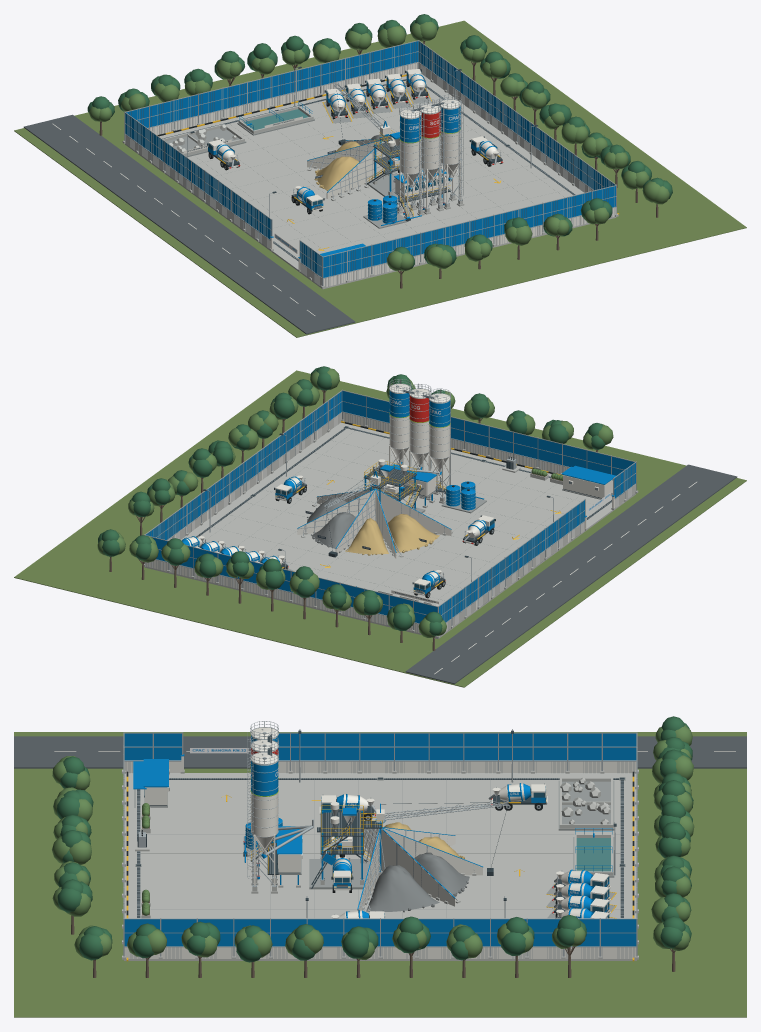
File: Bangna_32_Plant.glb
3 renders of one model, top to bottom at view 1: azimuth 30°, elevation 25°; view 2: azimuth 150°, elevation 25°; view 3: azimuth 270°, elevation 25°, orthographic. The views are drawn at different scales.
Parts seen in each view (by area): view 1: 60x70m concrete hardstanding / Ground vegetation, 60x70m concrete hardstanding / Concrete, 60x70m concrete hardstanding / Asphalt, B1 — 180t cement silo / Warm white powder coating, B2 — 180t cement silo / Warm white powder coating, B3 — 180t cement silo / Warm white powder coating, B3 — 180t cement silo / Galvanized steel, B2 — 180t cement silo / Galvanized steel, Edge radial divider 1 — peak7.2m / Warm white powder coating, C+D — five radial retaining walls / Fine aggregate sand, B1 — 180t cement silo / Galvanized steel, I — Concrete washout pit 7x15m / Concrete (+7 smaller); view 2: 60x70m concrete hardstanding / Ground vegetation, 60x70m concrete hardstanding / Concrete, 60x70m concrete hardstanding / Asphalt, C+D — five radial retaining walls / Fine aggregate sand, B1 — 180t cement silo / Warm white powder coating, C+D — five radial retaining walls / Coarse aggregate, B3 — 180t cement silo / Warm white powder coating, B2 — 180t cement silo / Warm white powder coating, Edge radial divider 1 — peak7.2m / Warm white powder coating, Inner radial divider 4 — peak7.2m / Warm white powder coatin, A — CPC2.0 star batching machine / Galvanized steel, F — 3x15000 litre water tanks / CPAC blue (+6 smaller); view 3: 60x70m concrete hardstanding / Ground vegetation, 60x70m concrete hardstanding / Concrete, / CPAC blue (×20), Context tree / Tree foliage (×16), 60x70m concrete hardstanding / Asphalt, C+D — five radial retaining walls / Coarse aggregate, Context tree / Light tree foliage (×4), B3 — 180t cement silo / Warm white powder coating, I — Concrete washout pit 7x15m / Concrete, 60x70m concrete hardstanding / Dark structural steel, I — Concrete washout pit 7x15m / Concrete edges, A — CPC2.0 star batching machine / Dark structural steel (+17 smaller).
Boxes of the visible parts, x1,y1,x2,y2 form: 60x70m concrete hardstanding / Ground vegetation: [14, 20, 746, 337]; 60x70m concrete hardstanding / Concrete: [125, 74, 616, 289]; 60x70m concrete hardstanding / Asphalt: [23, 114, 355, 334]; B1 — 180t cement silo / Warm white powder coating: [399, 109, 421, 212]; B2 — 180t cement silo / Warm white powder coating: [419, 104, 441, 208]; B3 — 180t cement silo / Warm white powder coating: [439, 99, 461, 203]; B3 — 180t cement silo / Galvanized steel: [436, 94, 463, 204]; B2 — 180t cement silo / Galvanized steel: [417, 99, 443, 209]; Edge radial divider 1 — peak7.2m / Warm white powder coating: [326, 141, 385, 198]; C+D — five radial retaining walls / Fine aggregate sand: [314, 141, 360, 191]; B1 — 180t cement silo / Galvanized steel: [398, 104, 423, 213]; I — Concrete washout pit 7x15m / Concrete: [162, 124, 244, 155]; 60x70m concrete hardstanding / Ground vegetation: [14, 370, 746, 687]; 60x70m concrete hardstanding / Concrete: [144, 422, 635, 638]; 60x70m concrete hardstanding / Asphalt: [405, 464, 737, 684]; C+D — five radial retaining walls / Fine aggregate sand: [345, 514, 439, 555]; B1 — 180t cement silo / Warm white powder coating: [428, 393, 450, 497]; C+D — five radial retaining walls / Coarse aggregate: [307, 497, 355, 548]; B3 — 180t cement silo / Warm white powder coating: [389, 384, 410, 465]; B2 — 180t cement silo / Warm white powder coating: [409, 389, 430, 470]; Edge radial divider 1 — peak7.2m / Warm white powder coating: [376, 489, 451, 535]; Inner radial divider 4 — peak7.2m / Warm white powder coatin: [297, 490, 373, 534]; A — CPC2.0 star batching machine / Galvanized steel: [364, 465, 422, 509]; F — 3x15000 litre water tanks / CPAC blue: [445, 481, 483, 510]; 60x70m concrete hardstanding / Ground vegetation: [14, 732, 746, 1017]; 60x70m concrete hardstanding / Concrete: [124, 773, 636, 960]; / CPAC blue (×20): [124, 733, 636, 946]; Context tree / Tree foliage (×16): [57, 756, 692, 962]; 60x70m concrete hardstanding / Asphalt: [14, 736, 746, 768]; C+D — five radial retaining walls / Coarse aggregate: [366, 852, 469, 912]; Context tree / Light tree foliage (×4): [52, 755, 693, 957]; B3 — 180t cement silo / Warm white powder coating: [251, 752, 278, 885]; I — Concrete washout pit 7x15m / Concrete: [559, 777, 613, 828]; 60x70m concrete hardstanding / Dark structural steel: [136, 777, 624, 917]; I — Concrete washout pit 7x15m / Concrete edges: [558, 780, 614, 830]; A — CPC2.0 star batching machine / Dark structural steel: [311, 812, 367, 888].
Bounding box in the file's own units: 92 × 20.89 × 100.
Materials: 64 (44 with a texture image).
